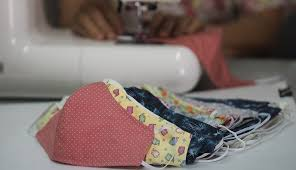cloth_mask: (35, 82, 167, 170)
